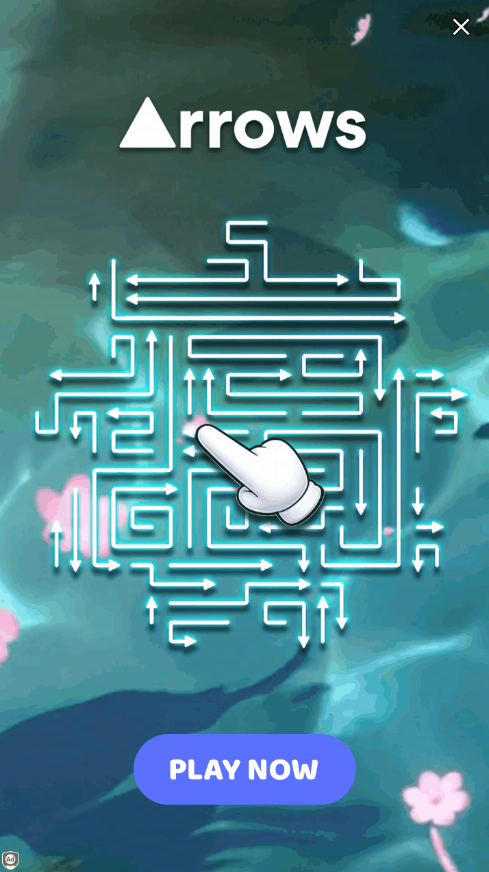close_button: (450, 17, 472, 38)
